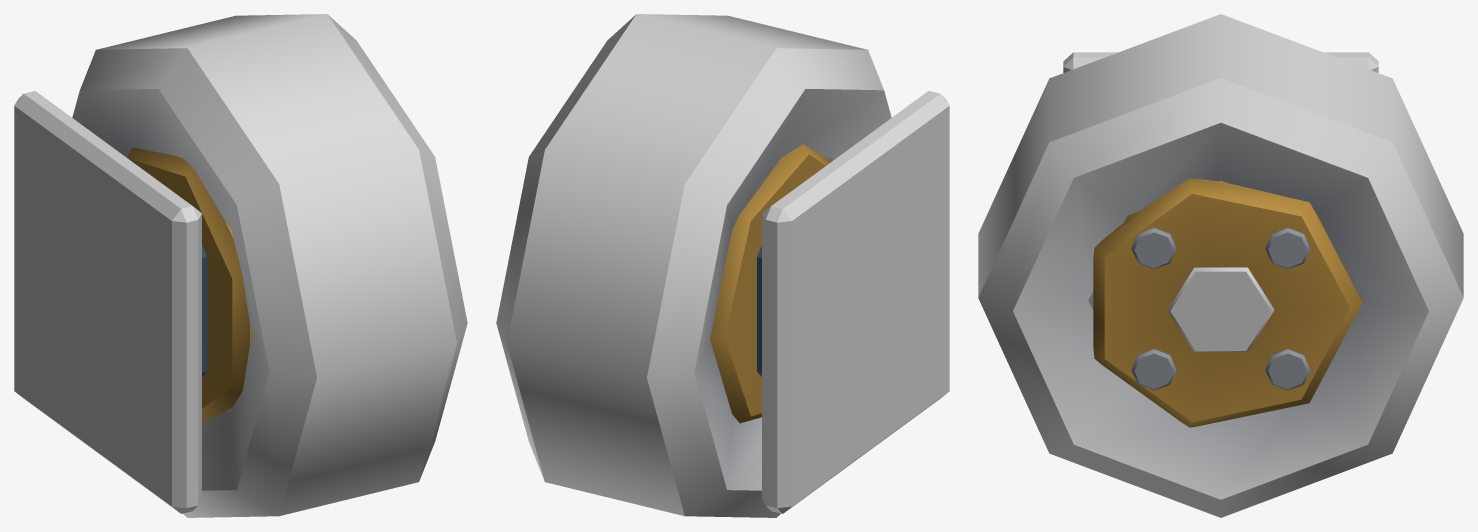
Rendered from R4M_WheelM_Side_Offroad_LOD1.fbx.
3 views of the same model, side by side, from view 1: azimuth 30°, elevation 25°; view 2: azimuth 150°, elevation 25°; view 3: azimuth 270°, elevation 25° (orthographic). The views are drawn at different scales.
Visible parts, largest first — view 1: R4M_WheelM_Side_Offroad_LOD1; view 2: R4M_WheelM_Side_Offroad_LOD1; view 3: R4M_WheelM_Side_Offroad_LOD1.
Part boxes in pixels (x1,y1,x2,y2): R4M_WheelM_Side_Offroad_LOD1: (14, 14, 467, 517); R4M_WheelM_Side_Offroad_LOD1: (496, 14, 949, 517); R4M_WheelM_Side_Offroad_LOD1: (978, 14, 1463, 517).
Size of the model in its own units: 0.452 by 0.77 by 0.77.
